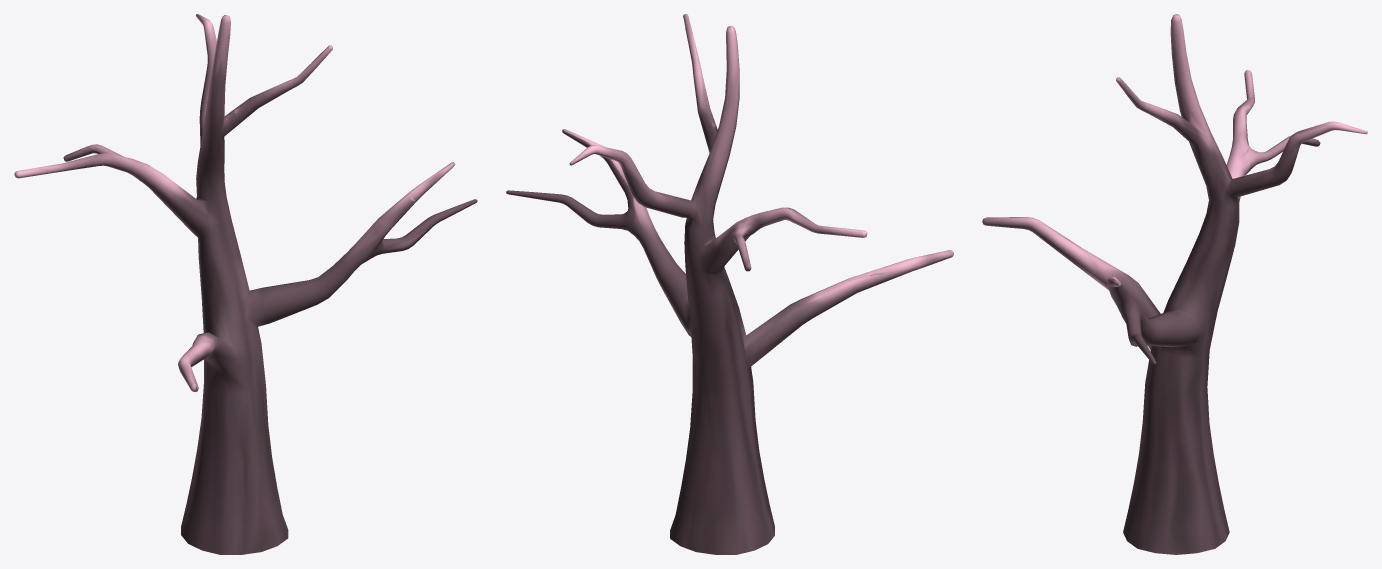
The model's file is Tree01.fbx.
The picture shows the model from 3 angles, left to right: view 1: azimuth 30°, elevation 25°; view 2: azimuth 150°, elevation 25°; view 3: azimuth 270°, elevation 25°; orthographic projection. The views are drawn at different scales.
Visible parts, largest first — view 1: Tree01; view 2: Tree01; view 3: Tree01.
Part boxes in pixels (x1=…): Tree01: x1=14, y1=14, x2=477, y2=554; Tree01: x1=506, y1=14, x2=953, y2=554; Tree01: x1=982, y1=14, x2=1367, y2=554.
Bounding box in the file's own units: 78.93 × 94.33 × 64.05.
